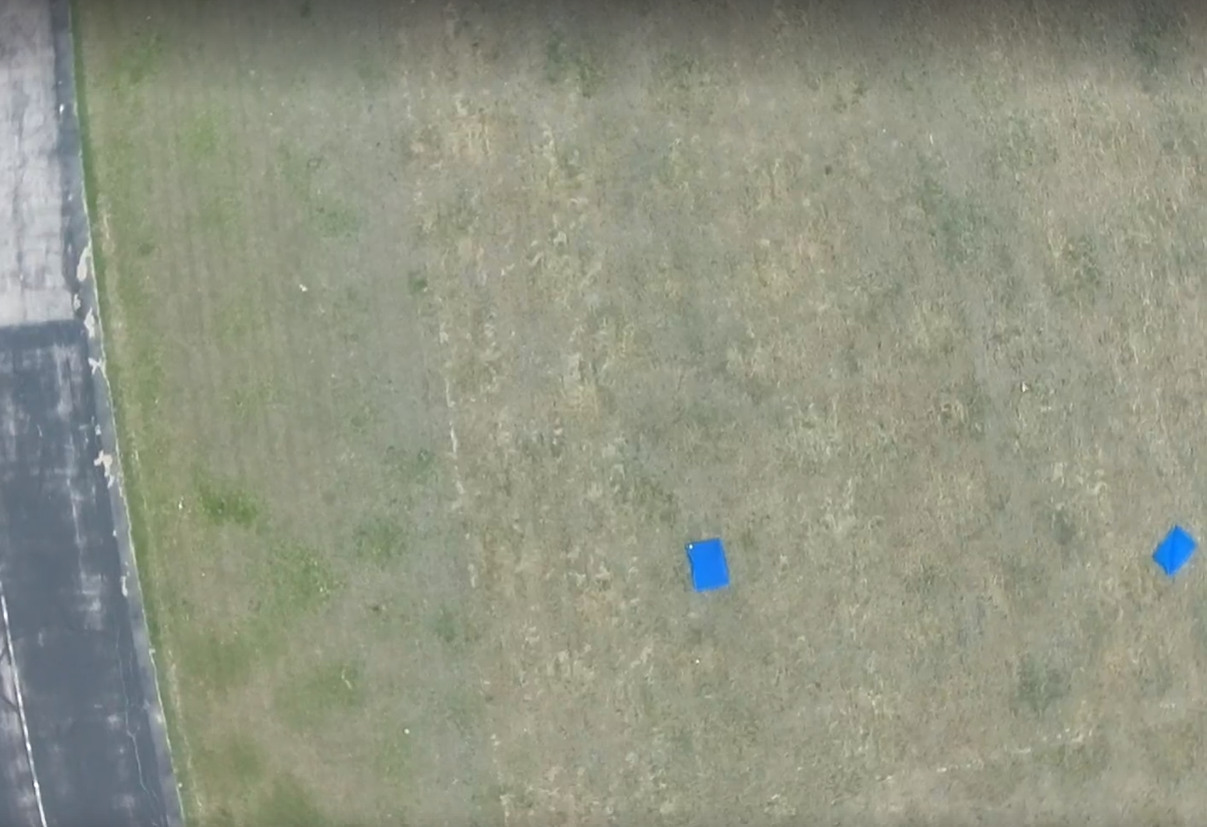TOI: (682, 538, 734, 592), (1149, 522, 1198, 576)
